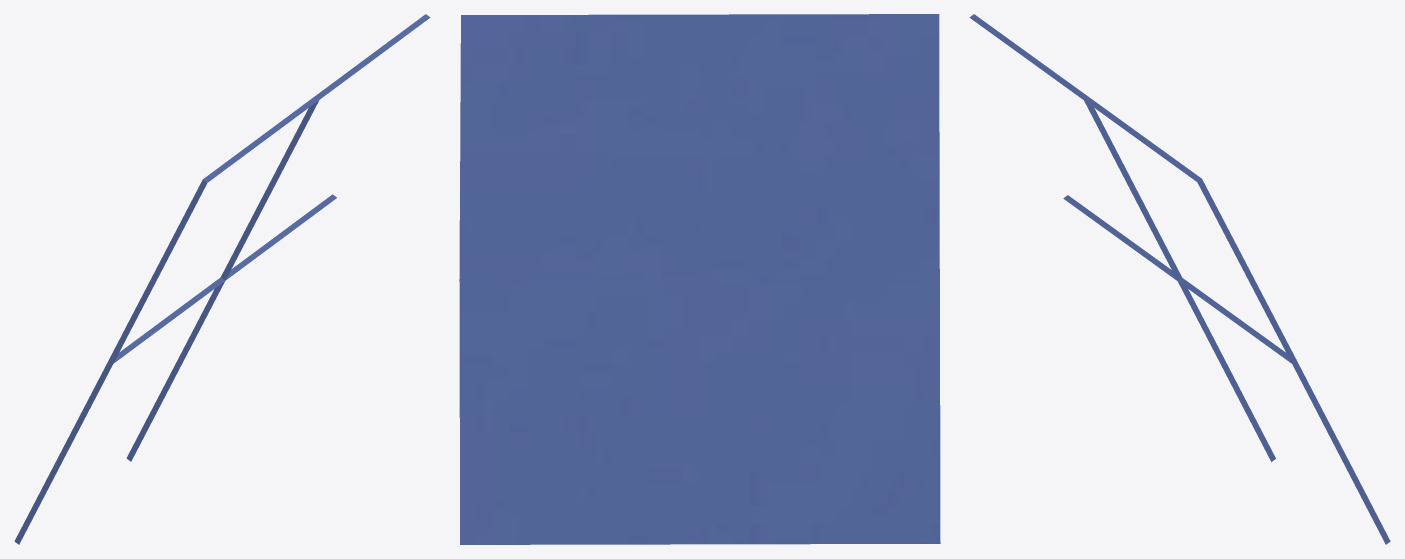
3 views of the same model, side by side, from view 1: azimuth 30°, elevation 25°; view 2: azimuth 150°, elevation 25°; view 3: azimuth 270°, elevation 25° (orthographic). The views are drawn at different scales.
Bounding box in the file's own units: 19684 × 17762 × 16512.
1 material, 1 textured.
